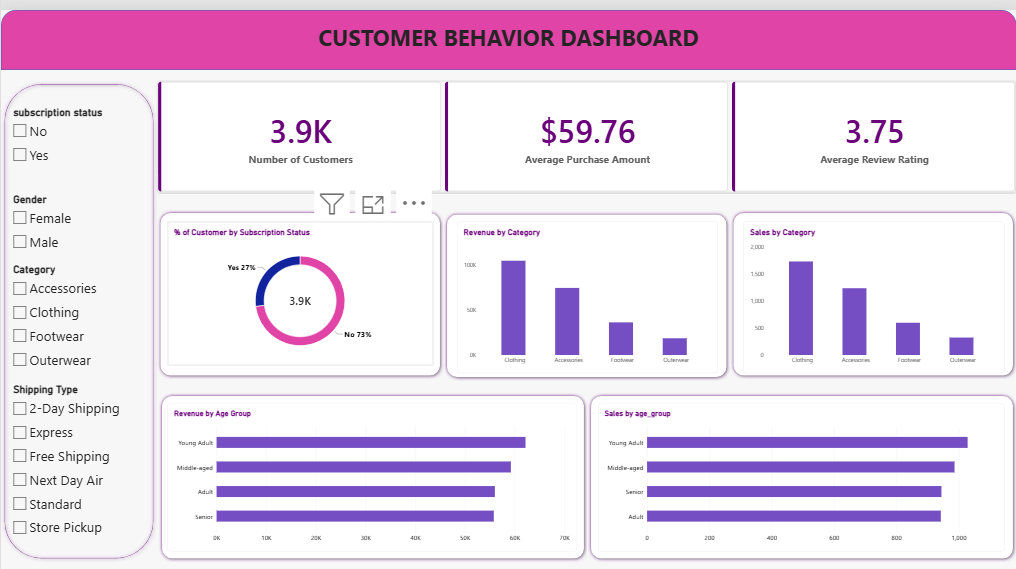

Layout of this report page (visuals, bound fields, positions):
{"tool":"powerbi","page":{"name":"Page 1","canvas":[2560,1440],"ordinal":0},"visuals":[{"type":"cardVisual","fields":{"Data":["public customer.Number of Customers","public customer.Average Purchase Amount","public customer.Average Review Rating"]},"box":[393.1,177.6,2165.7,283.5],"z":0},{"type":"shape","box":[0,0,2558.8,151.2],"z":1},{"type":"textbox","box":[0,30.2,2558.8,120.9],"z":2},{"type":"shape","box":[393.1,502.7,721.9,427.1],"z":3},{"type":"donutChart","title":"% of Customer by Subscription Status","fields":{"Category":["public customer.subscription_status"],"Y":["CountNonNull(public customer.customer_id)"]},"box":[419.5,532.9,669,362.8],"z":4},{"type":"shape","box":[1836.9,502.7,721.9,427.1],"z":5},{"type":"shape","box":[1115,506.5,721.9,427.1],"z":6},{"type":"clusteredColumnChart","title":"Revenue by Category","fields":{"Category":["public customer.category"],"Y":["Sum(public customer.purchase_amount)"]},"box":[1149,532.9,657.6,381.7],"z":7},{"type":"clusteredColumnChart","title":"Sales by Category","fields":{"Category":["public customer.category"],"Y":["CountNonNull(public customer.customer_id)"]},"box":[1870.9,532.9,657.6,381.7],"z":8},{"type":"shape","box":[0,177.6,393.1,1213.2],"z":9},{"type":"slicer","fields":{"Values":["public customer.subscription_status"]},"box":[22.7,241.9,347.7,177.6],"z":10},{"type":"slicer","fields":{"Values":["public customer.gender"]},"box":[22.7,461.1,347.7,177.6],"z":11},{"type":"slicer","fields":{"Values":["public customer.category"]},"box":[22.7,638.7,347.7,302.4],"z":12},{"type":"slicer","fields":{"Values":["public customer.shipping_type"]},"box":[22.7,941.1,347.7,396.9],"z":13},{"type":"shape","box":[396.9,963.8,1081,427.1],"z":15},{"type":"clusteredBarChart","title":"Revenue by Age Group","fields":{"Category":["public customer.age_group"],"Y":["Sum(public customer.purchase_amount)"]},"box":[419.5,990.2,1031.8,374.2],"z":16},{"type":"shape","box":[1477.8,963.8,1081,427.1],"z":18},{"type":"clusteredBarChart","title":"Sales by age_group","fields":{"Category":["public customer.age_group"],"Y":["CountNonNull(public customer.customer_id)"]},"box":[1504.3,990.2,1024.3,374.2],"z":19}]}

Visuals, with their boxes in screenshot pixels (x1, y1, x2, y2), scaled from the page's 2560x1440 canvas onto the 1016x569 screenshot:
cardVisual - public customer.Number of Customers x public customer.Average Purchase Amount: Rect(156, 70, 1015, 182)
shape: Rect(0, 0, 1015, 60)
textbox: Rect(0, 12, 1015, 60)
shape: Rect(156, 199, 443, 367)
"% of Customer by Subscription Status" donutChart: Rect(166, 211, 432, 354)
shape: Rect(729, 199, 1015, 367)
shape: Rect(443, 200, 729, 369)
"Revenue by Category" clusteredColumnChart: Rect(456, 211, 717, 361)
"Sales by Category" clusteredColumnChart: Rect(743, 211, 1003, 361)
shape: Rect(0, 70, 156, 550)
slicer - public customer.subscription_status: Rect(9, 96, 147, 166)
slicer - public customer.gender: Rect(9, 182, 147, 252)
slicer - public customer.category: Rect(9, 252, 147, 372)
slicer - public customer.shipping_type: Rect(9, 372, 147, 529)
shape: Rect(158, 381, 587, 550)
"Revenue by Age Group" clusteredBarChart: Rect(166, 391, 576, 539)
shape: Rect(587, 381, 1015, 550)
"Sales by age_group" clusteredBarChart: Rect(597, 391, 1004, 539)
